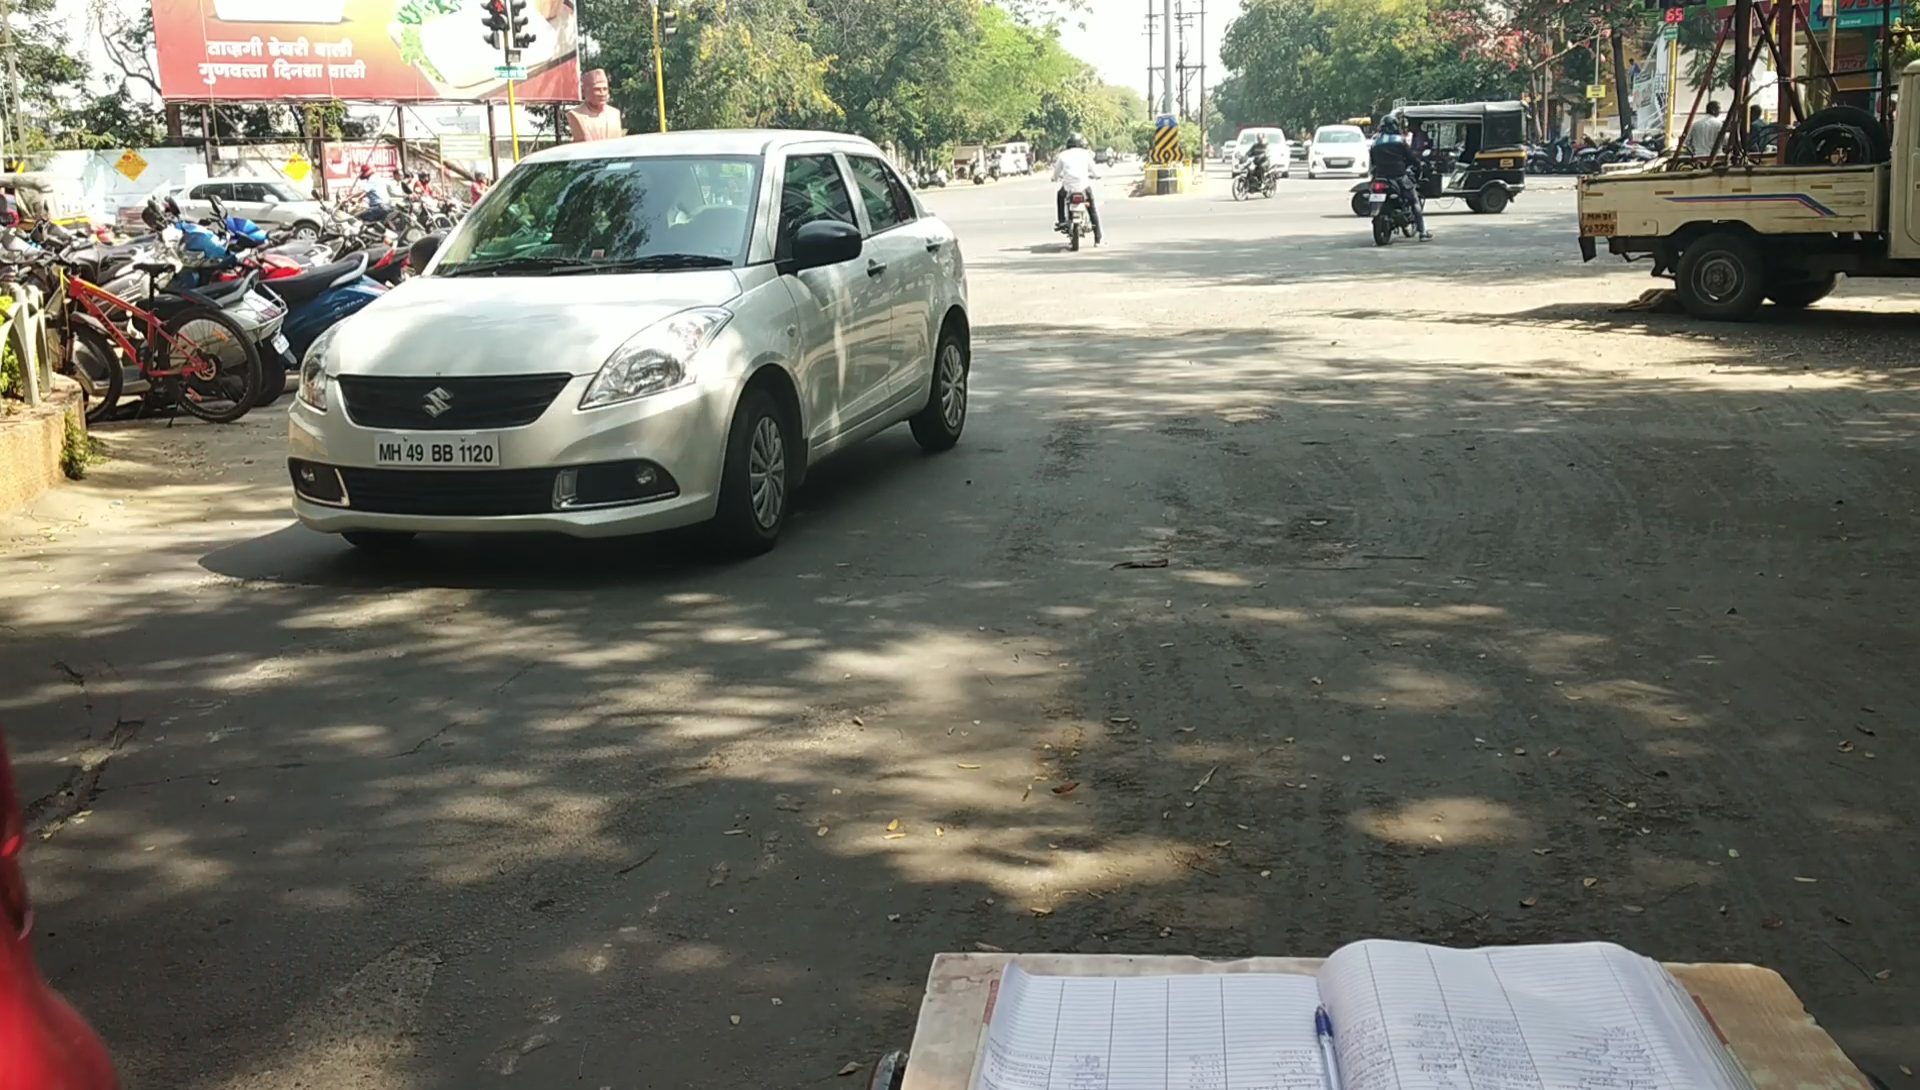car: (249, 128, 996, 567)
numplate: (363, 430, 508, 474)
